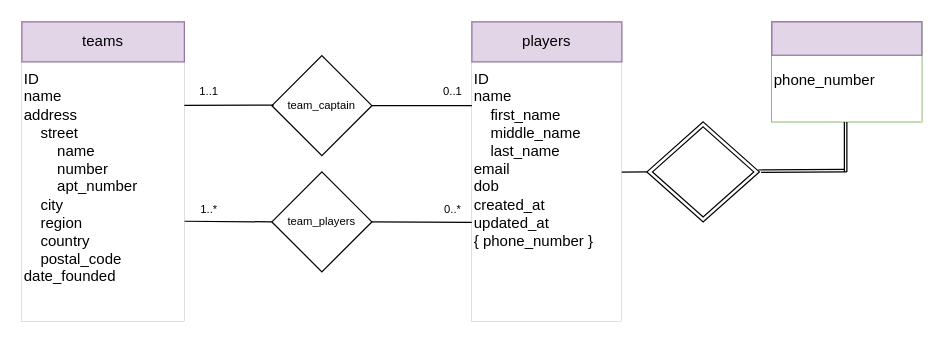
Image size: 944x344. Some labels were removed from this diagram. Here are the shapes that lost their labels. From the top down, the centre of each, then its label:
the point at 846,38: phone_numbers
the point at 702,171: player_phones
